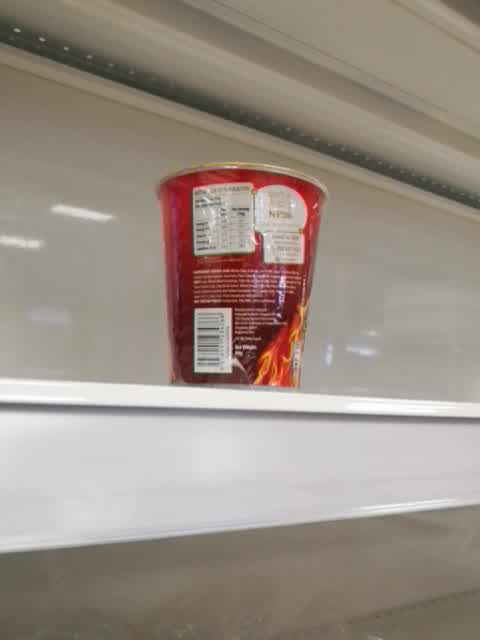maggi: (154, 160, 330, 395)
